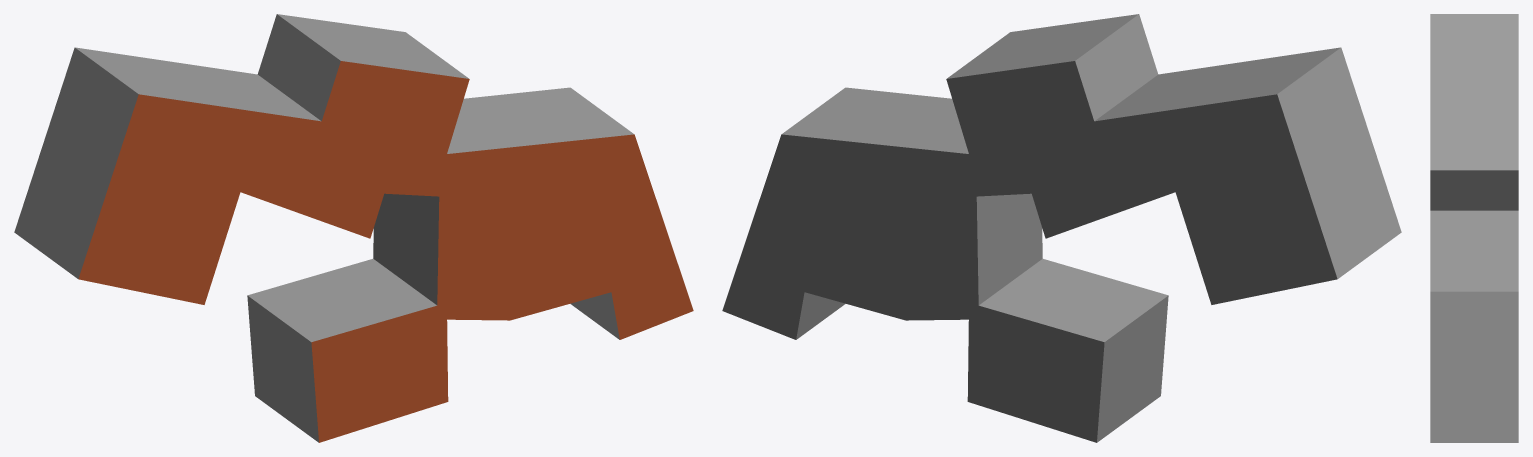
The model's file is construction_1654_assumed_A_Casa_h6m.obj.
3 renders of one model, left to right at view 1: azimuth 30°, elevation 25°; view 2: azimuth 150°, elevation 25°; view 3: azimuth 270°, elevation 25°, orthographic. The views are drawn at different scales.
Parts seen in each view (by area): view 1: construction_1654_assumed_A_Casa; view 2: construction_1654_assumed_A_Casa; view 3: construction_1654_assumed_A_Casa.
Boxes of the visible parts, x1=… form: construction_1654_assumed_A_Casa: x1=14, y1=14, x2=693, y2=442; construction_1654_assumed_A_Casa: x1=722, y1=14, x2=1401, y2=442; construction_1654_assumed_A_Casa: x1=1430, y1=14, x2=1518, y2=442.
Bounding box in the file's own units: 33.27 × 20.28 × 6.
